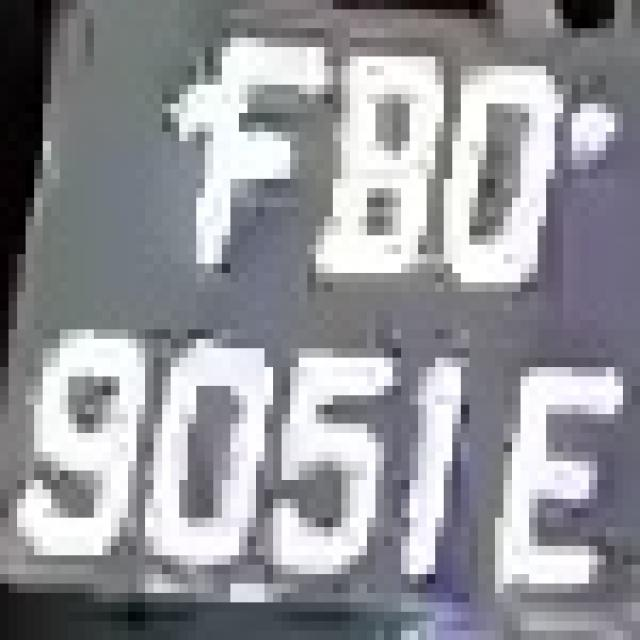0: (145, 292, 265, 564)
1: (410, 310, 460, 602)
5: (282, 311, 376, 574)
9: (17, 292, 154, 574)
B: (290, 19, 435, 301)
E: (486, 339, 614, 593)
F: (162, 18, 324, 310)
Q: (427, 28, 580, 339)
